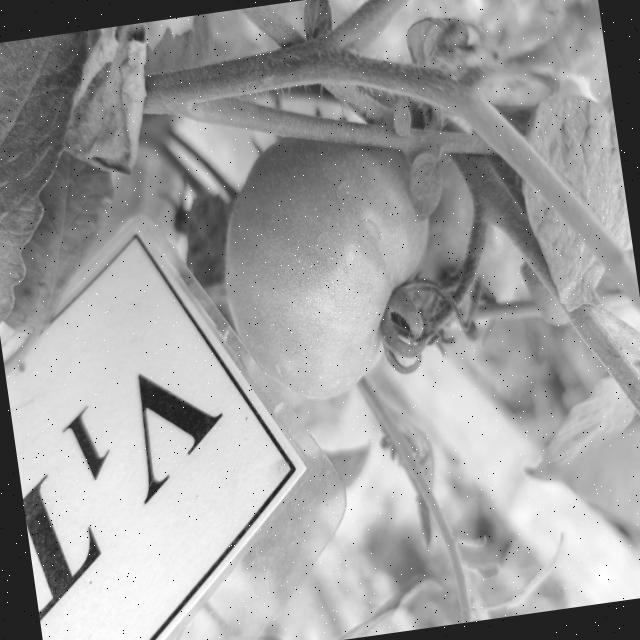Unripe: (208, 119, 450, 408)
